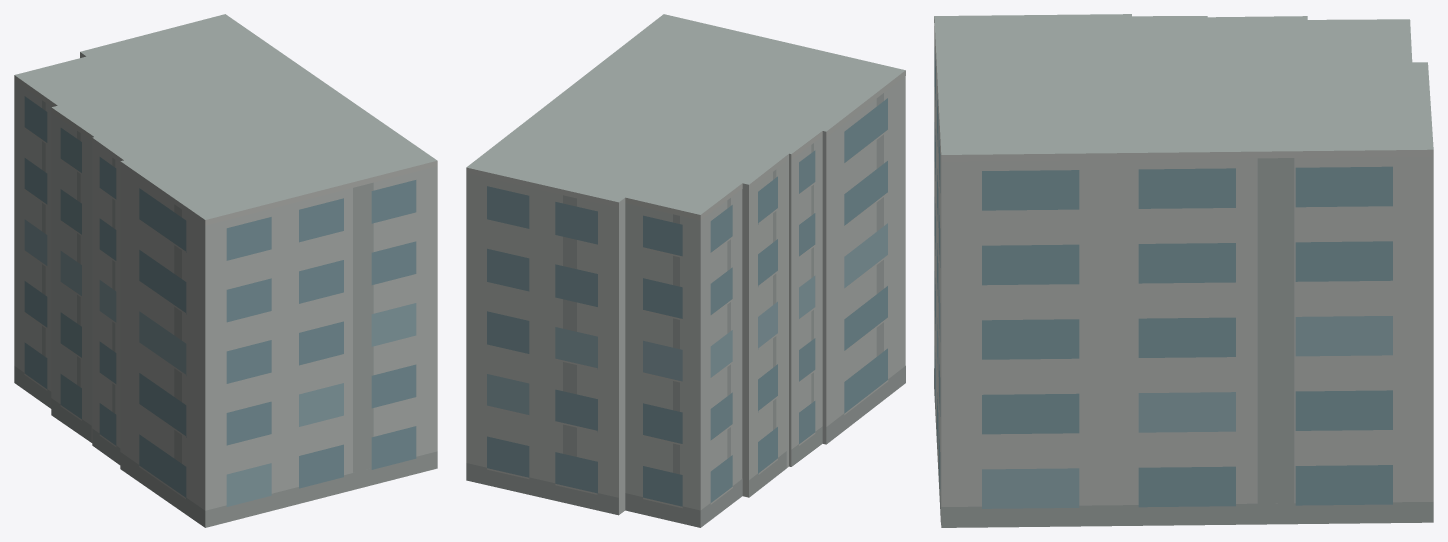
The model's file is survey-upis-32641251.glb.
3 renders of one model, left to right at view 1: azimuth 30°, elevation 25°; view 2: azimuth 150°, elevation 25°; view 3: azimuth 270°, elevation 25°, orthographic. The views are drawn at different scales.
Visible parts, largest first — view 1: survey-upis-32641251.tmp; view 2: survey-upis-32641251.tmp; view 3: survey-upis-32641251.tmp.
Boxes of the visible parts, bbox=[...] form: survey-upis-32641251.tmp: bbox=[14, 14, 437, 527]; survey-upis-32641251.tmp: bbox=[466, 14, 905, 527]; survey-upis-32641251.tmp: bbox=[934, 14, 1433, 527].
Size of the model in its own units: 10.92 by 13.45 by 16.34.
